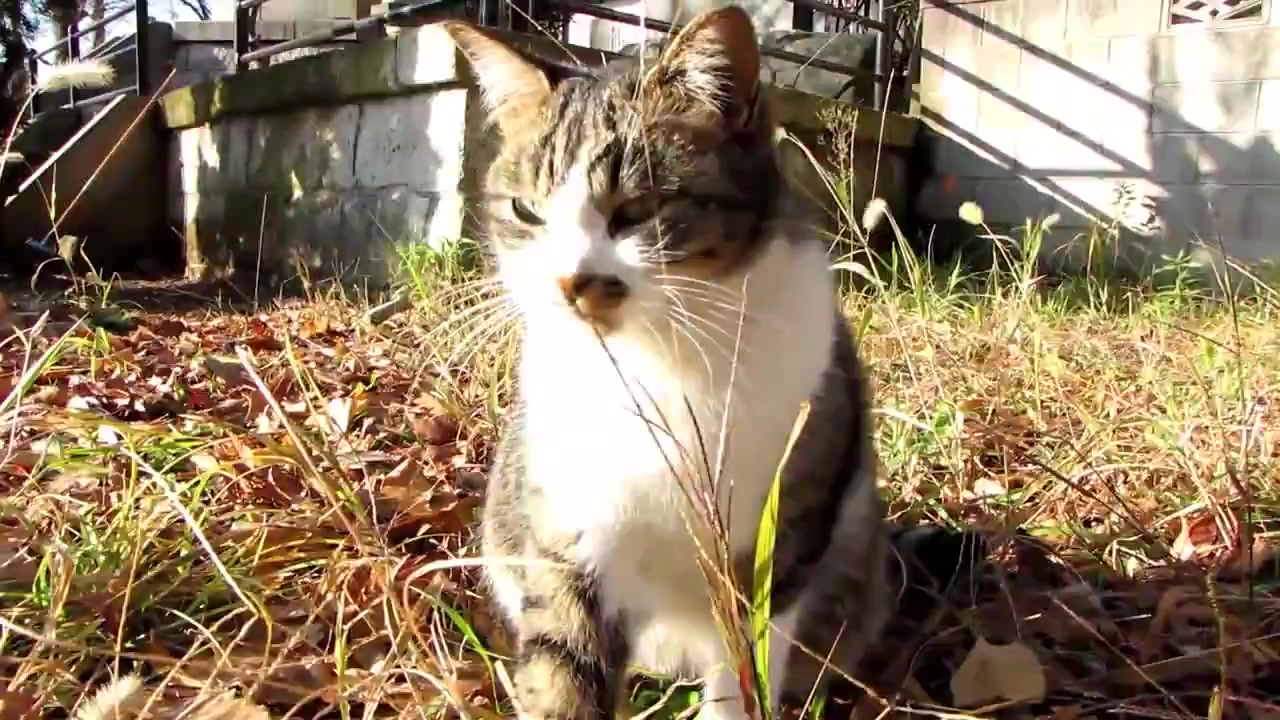cat: (438, 5, 960, 720)
